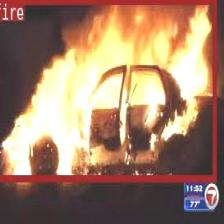fire: (0, 0, 216, 180)
